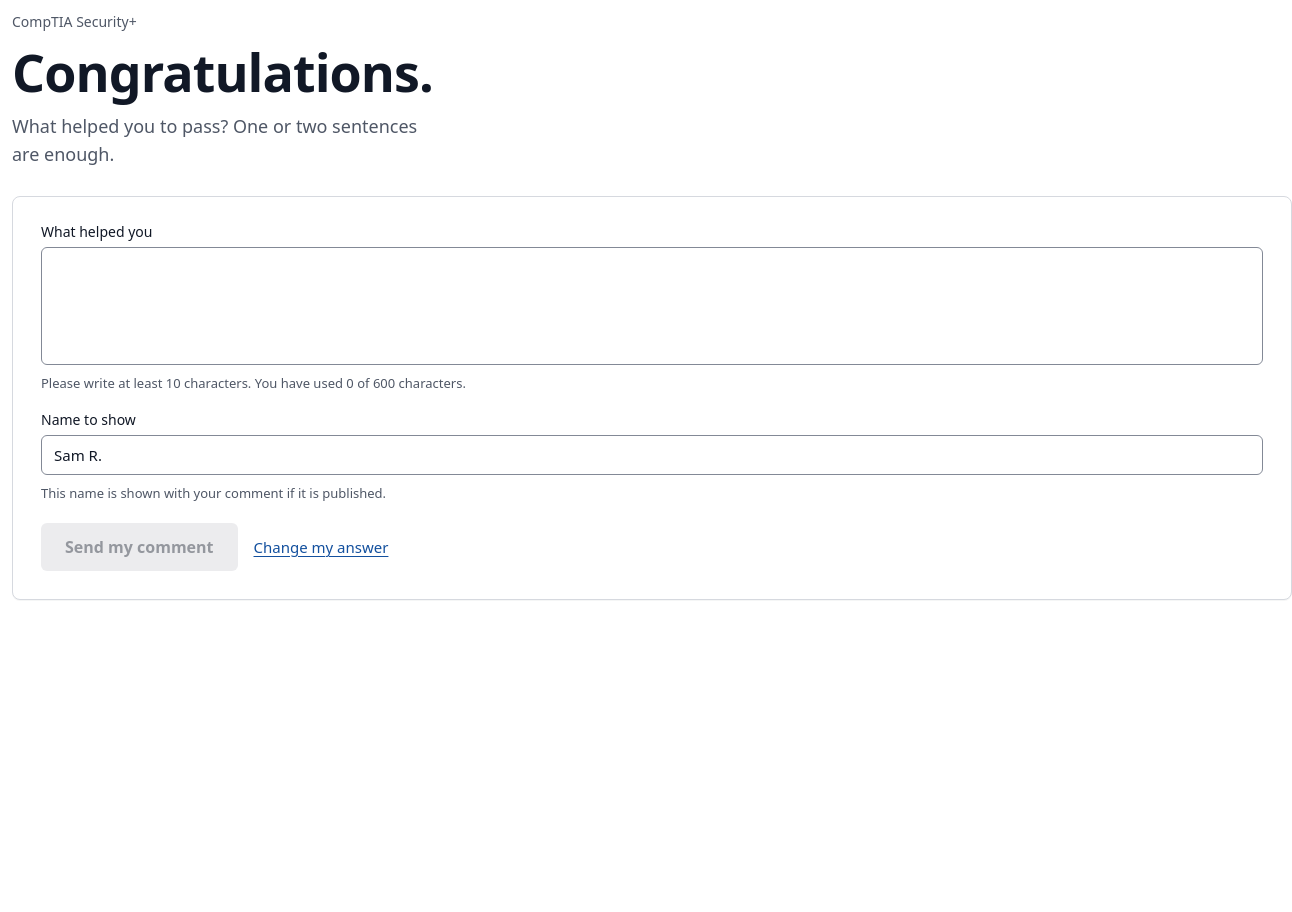
Test: when the answer cannot be sent › says that the connection was lost when it was
The width and height of the screenshot is (1292, 912).
In the text box labelled "What helped you": coordinates (652, 306) [41,247,1263,365], type "The labs showed me what to study."
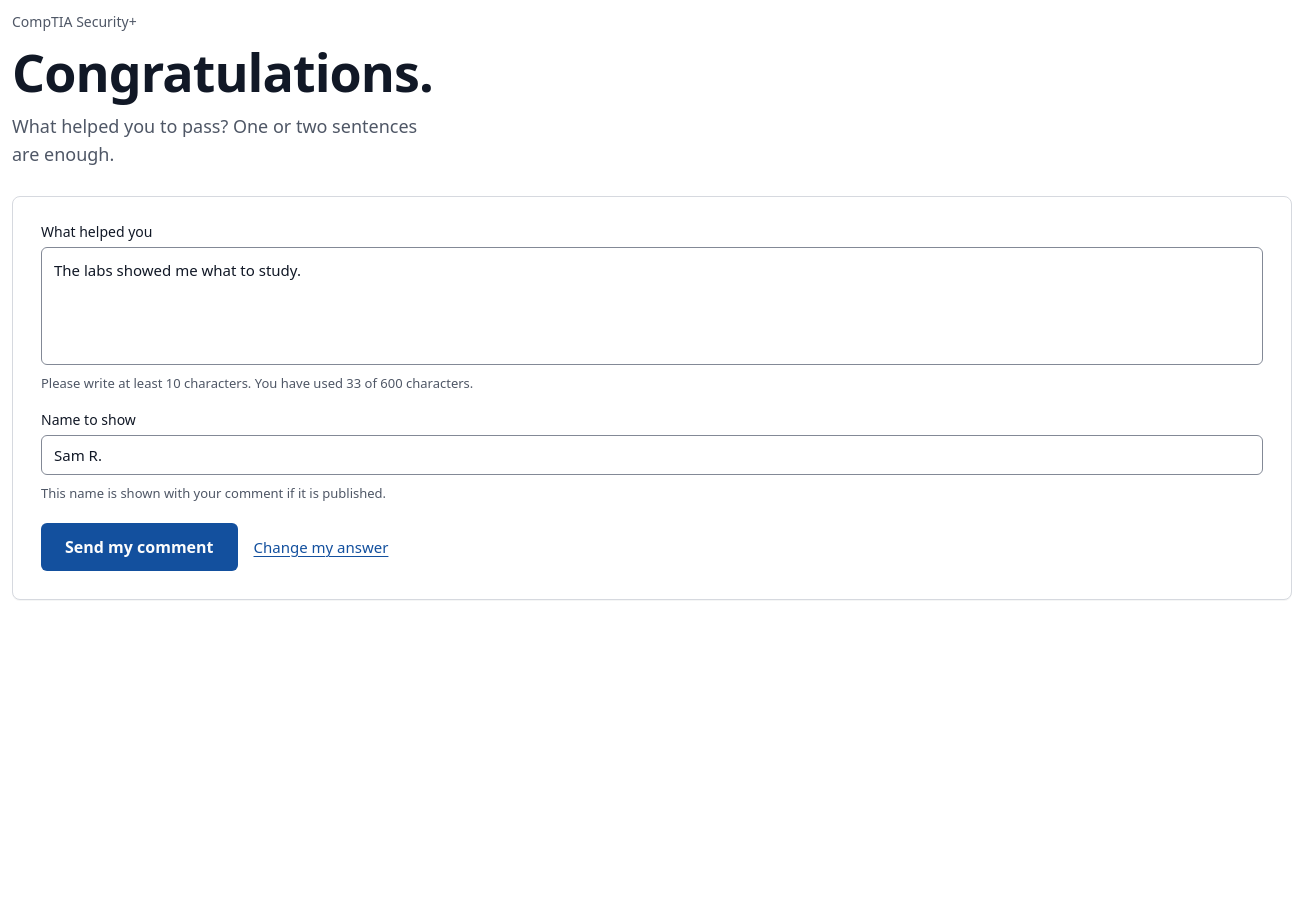
Click the button "Send my comment": coordinates (139, 547) [41,523,238,571]
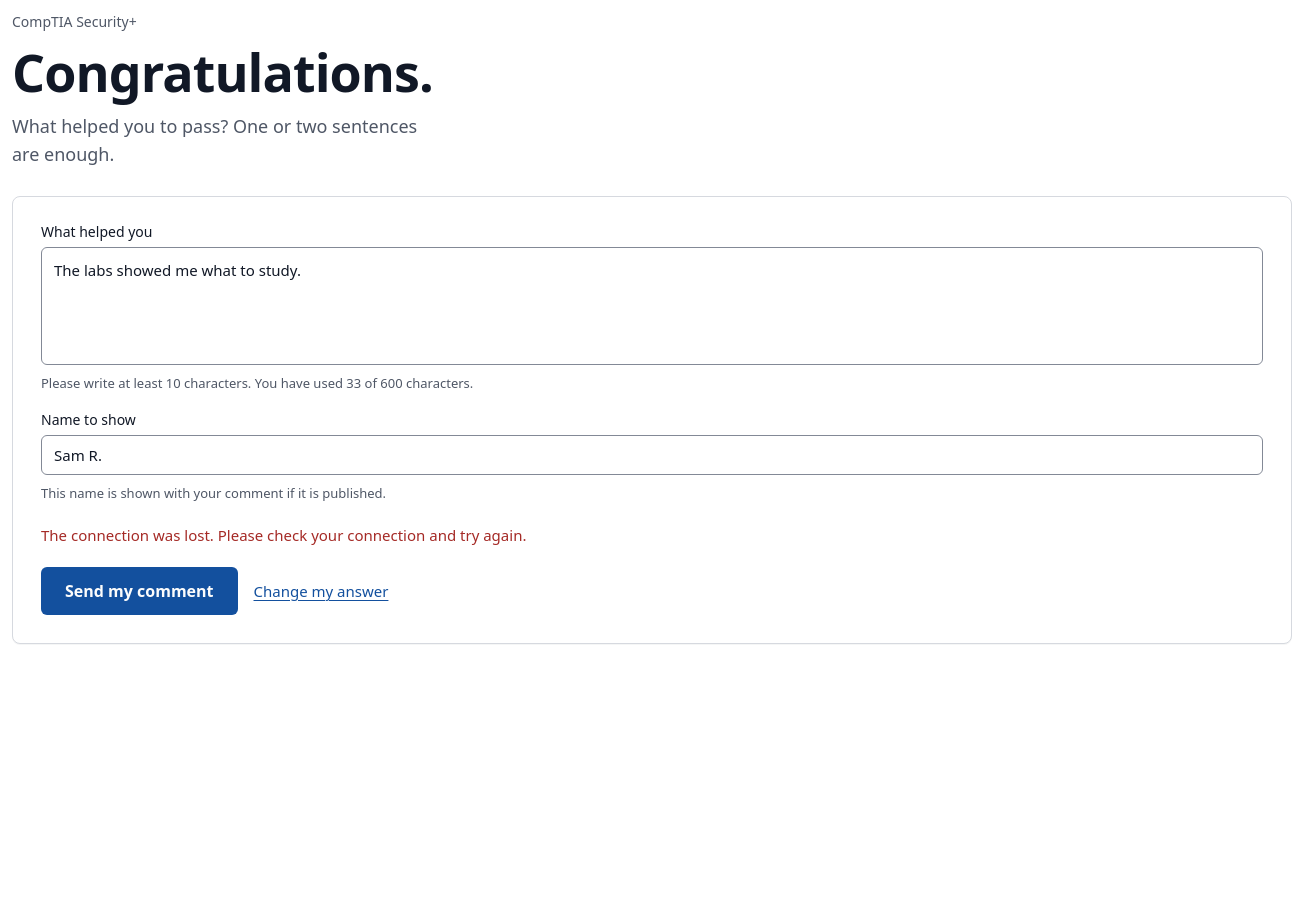
Expected: the message reads "The connection was lost. Please check your connection and try again.", [41,525,526,545]
